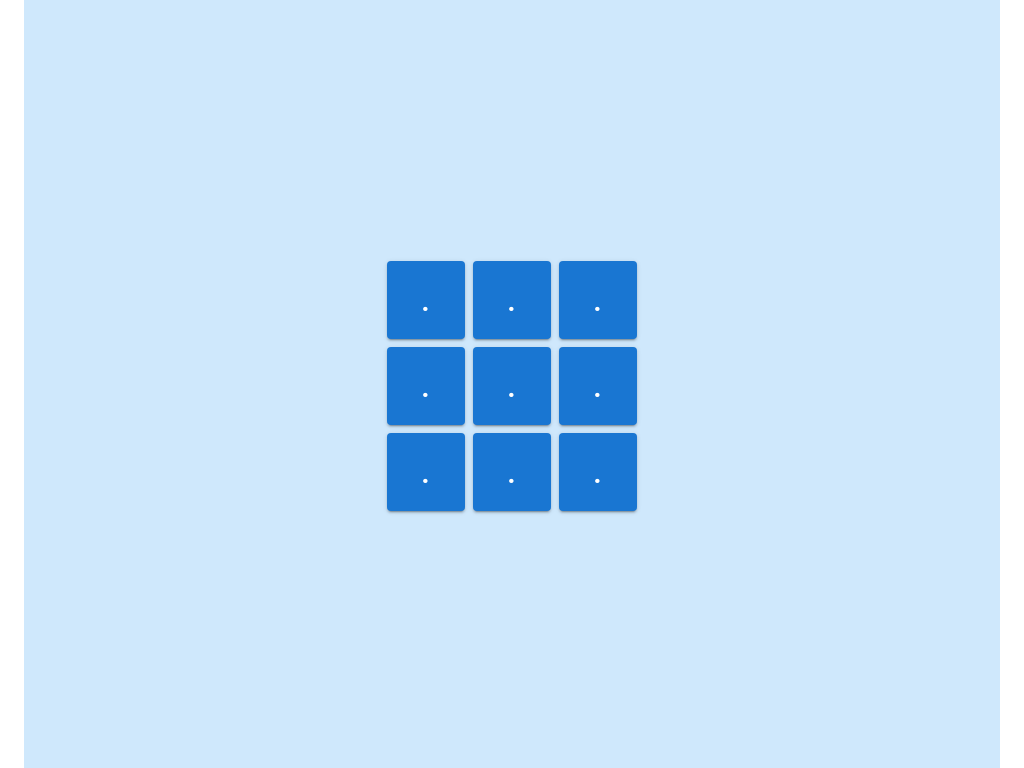
Test: Tris › alternates between players
Click the 1st button ".". click: [426, 300]
box: [387,261,465,339]
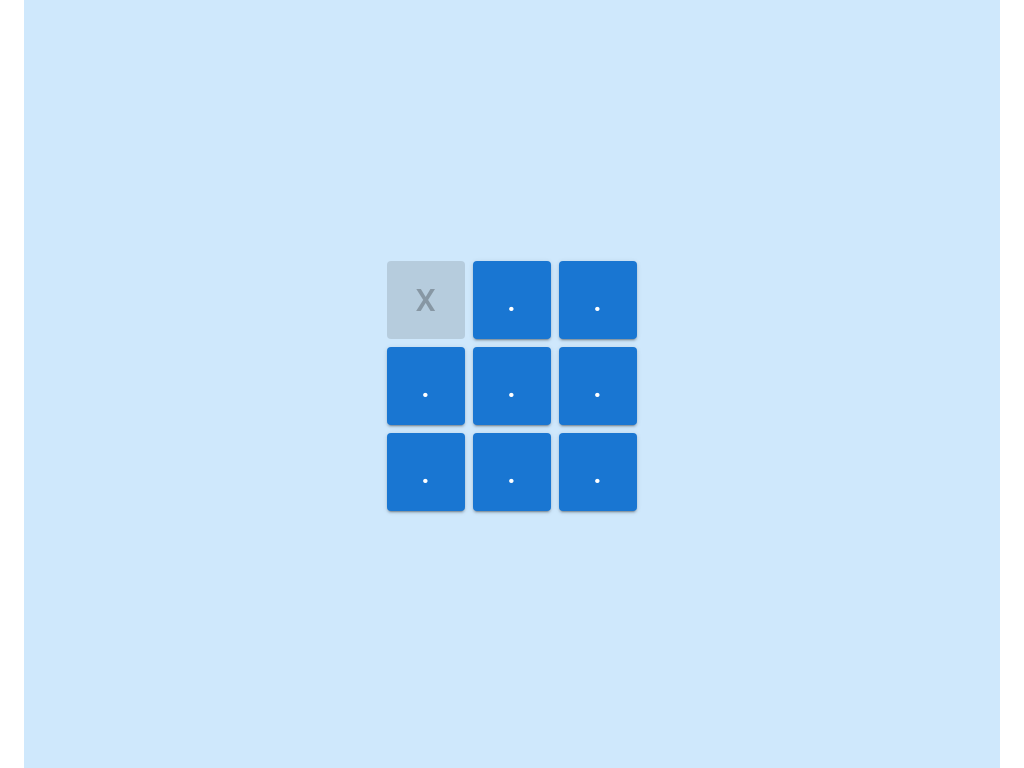
Expected: the button "x" is shown, [387,261,465,339]
Click the 1st button ".". click: [512, 300]
box: [473,261,551,339]
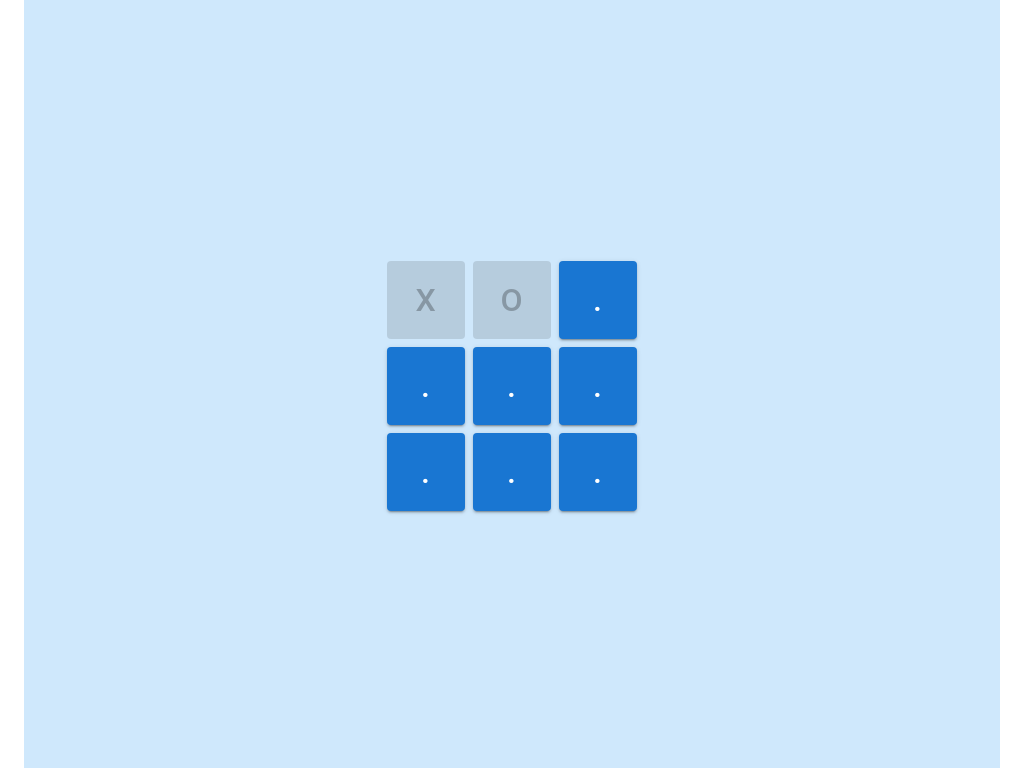
Expected: the button "o" is shown, [473,261,551,339]
Click the 1st button ".". click: [598, 300]
box: [559,261,637,339]
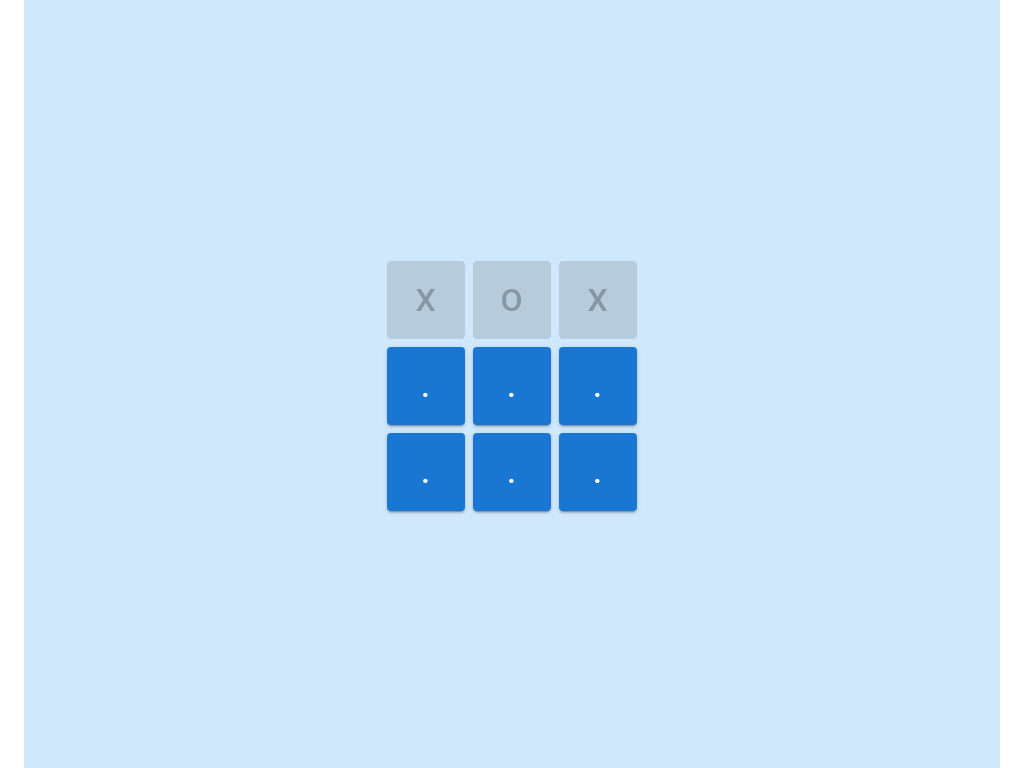
Expected: the 2nd button "x" is shown, [559,261,637,339]
Click the 1st button ".". click: [426, 386]
box: [387,347,465,425]
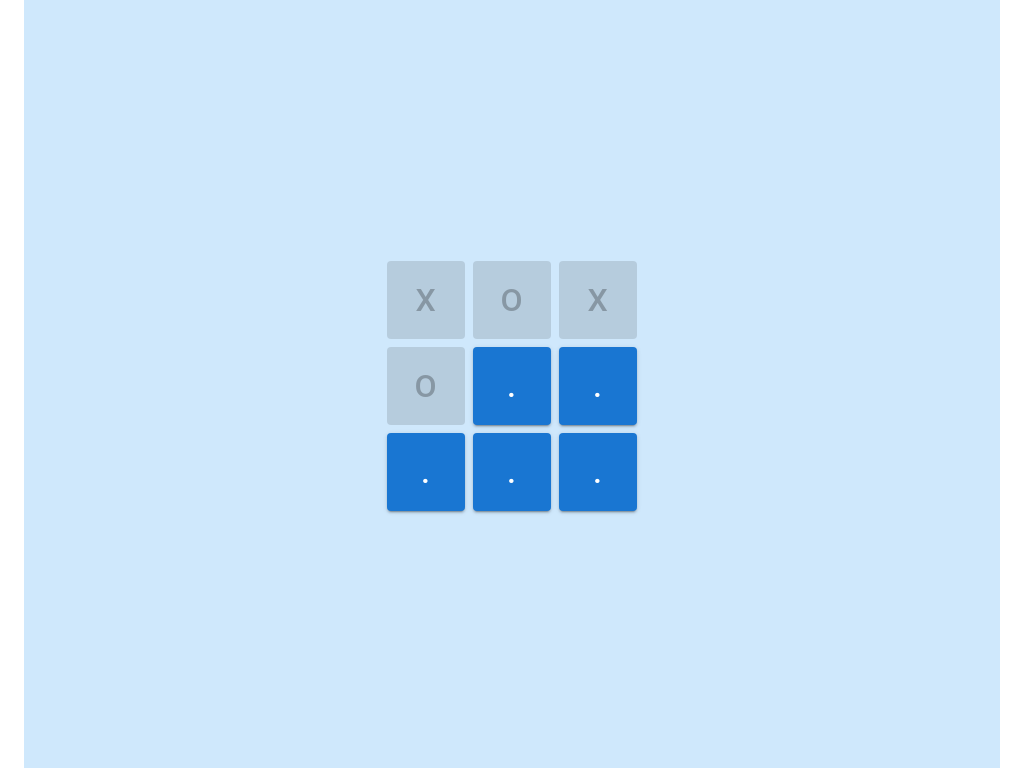
Expected: the 2nd button "o" is shown, [387,347,465,425]
